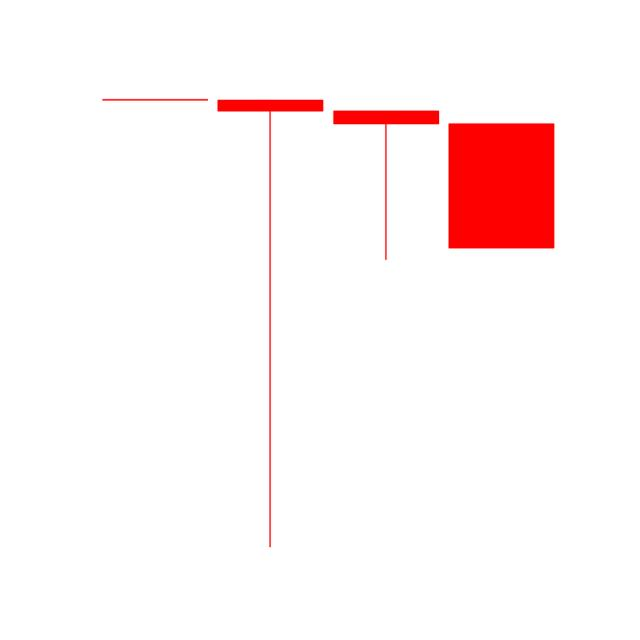Four price doji: (103, 98, 209, 102)
